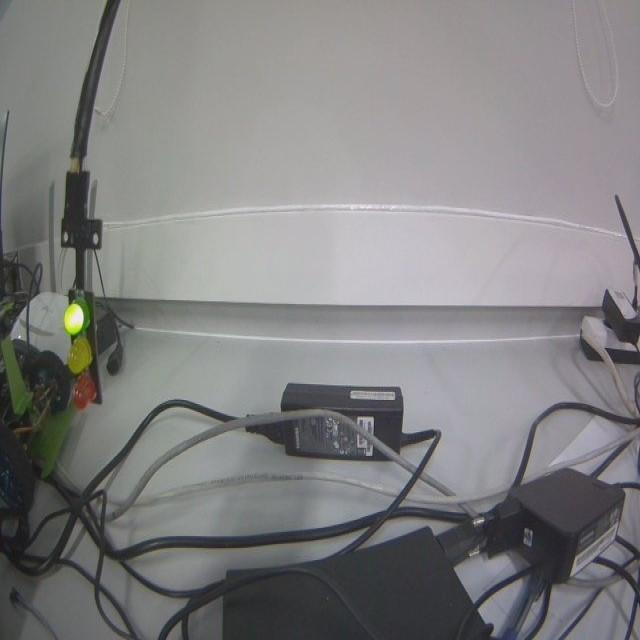Lampu Hijau: (63, 292, 98, 408)
